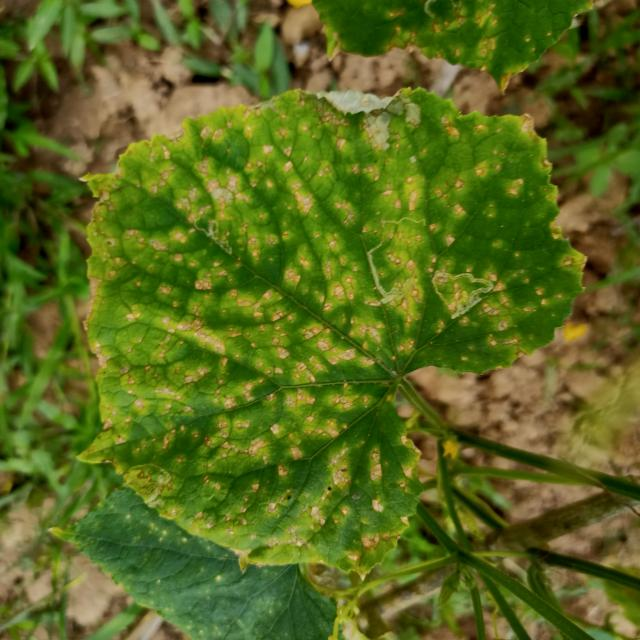disease_cucumber: (91, 103, 563, 564)
